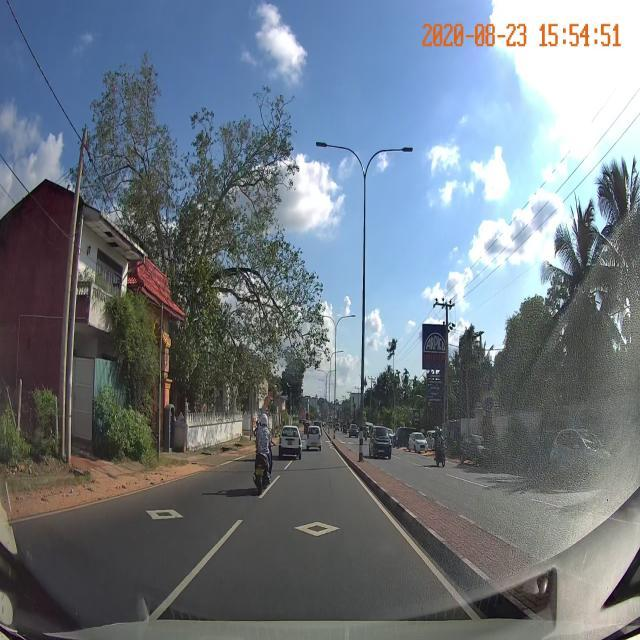diamond: (203, 505, 424, 546)
